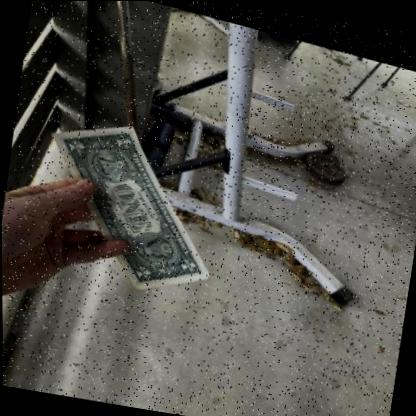dollar_back: (50, 123, 211, 286)
